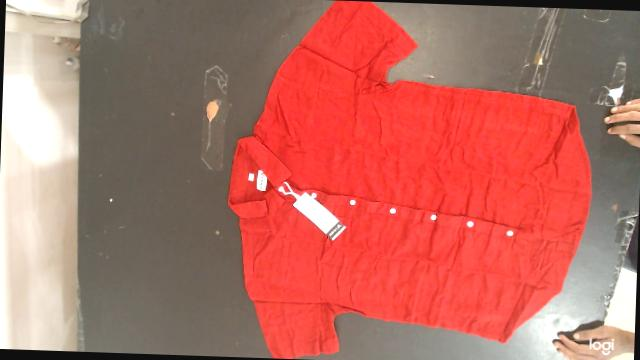new-garment: (228, 0, 591, 359)
